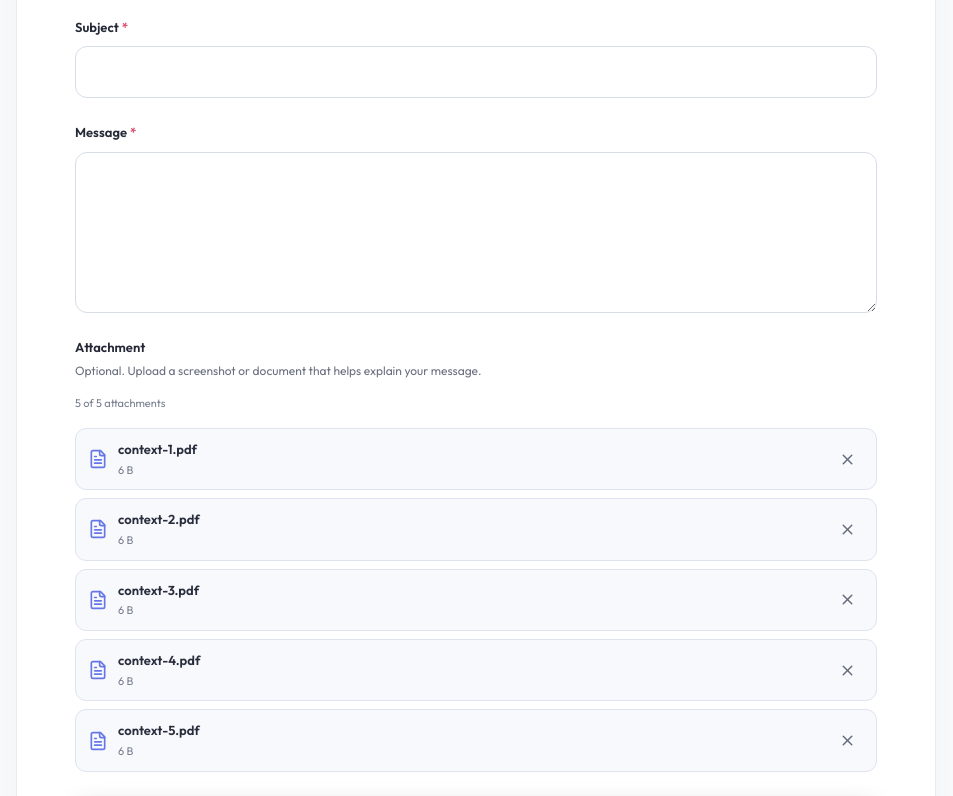
Test case: ContactPage › adds up to five attachments, blocks a sixth, and allows replacement after removal
Earlier steps of the test are not shown.
Later steps or results of the test are not shown.
(page scrolled)
Check: the number of elements with class "contact-attachment-selection" is 5, box x1=75 y1=428 x2=877 y2=490; x1=75 y1=498 x2=877 y2=561; x1=75 y1=569 x2=877 y2=631; x1=75 y1=639 x2=877 y2=701; x1=75 y1=709 x2=877 y2=772
Check: the text "Add another attachment" is not shown
Step 1. Click the button named "Remove context-3.pdf" → [847, 600], box x1=830 y1=583 x2=864 y2=617
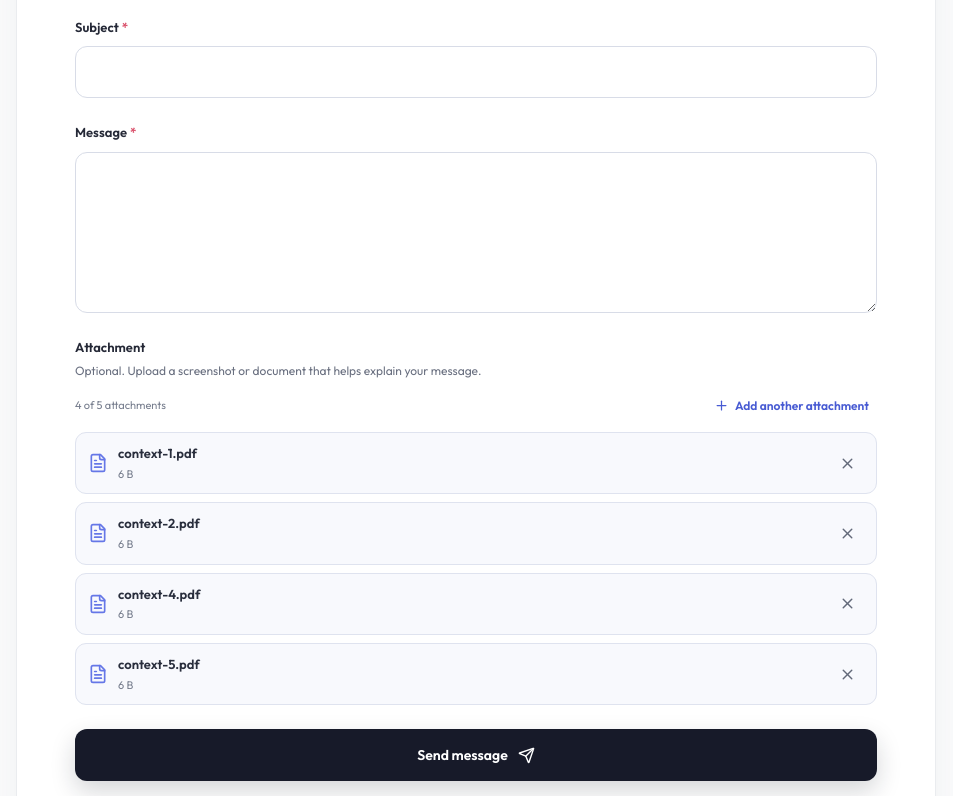
Check: the text "4 of 5 attachments" is shown, box x1=75 y1=397 x2=166 y2=415
Check: the text "Add another attachment" is shown, box x1=735 y1=396 x2=869 y2=416
